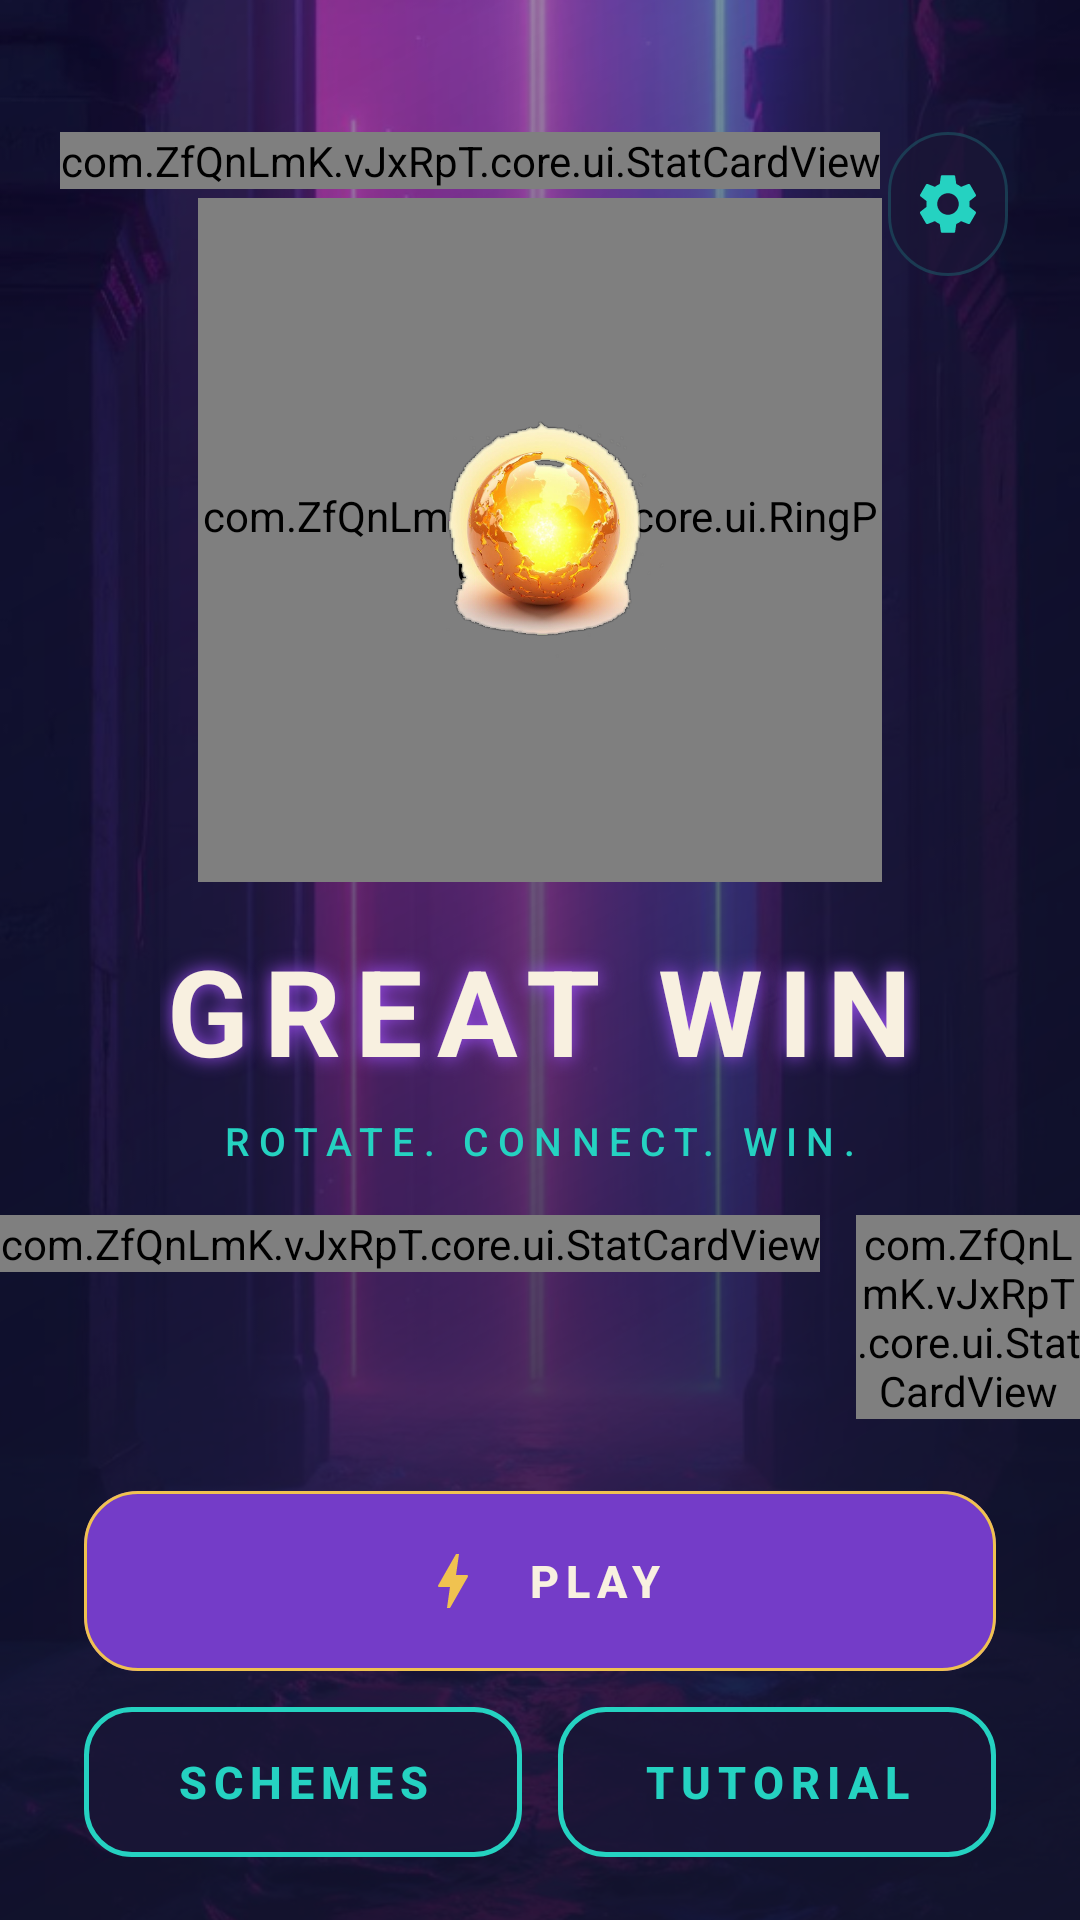

Named icons in this screenshot (1080px x 1920px) and their centers, (x=x, y=y):
GLOWING ENERGY CORE: (x=545, y=529)
OPEN SETTINGS: (x=948, y=204)
